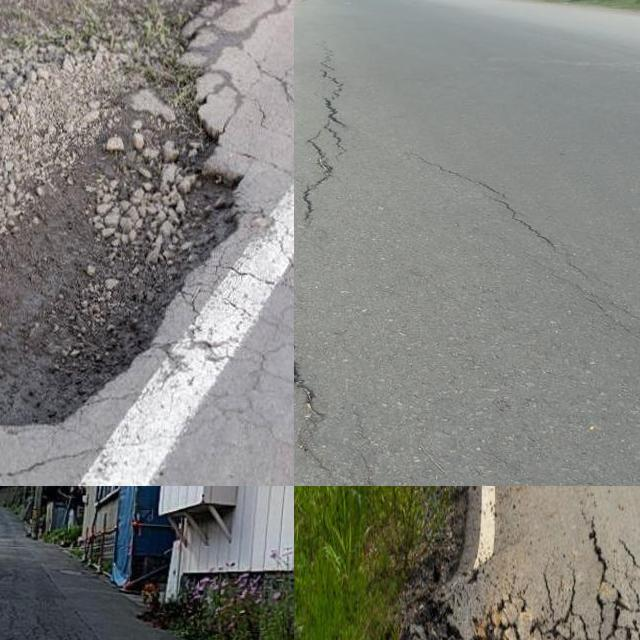Memanjang: (401, 146, 626, 313), (294, 43, 351, 234), (294, 315, 340, 480)
Pinggir: (0, 8, 289, 454), (334, 486, 610, 640)
